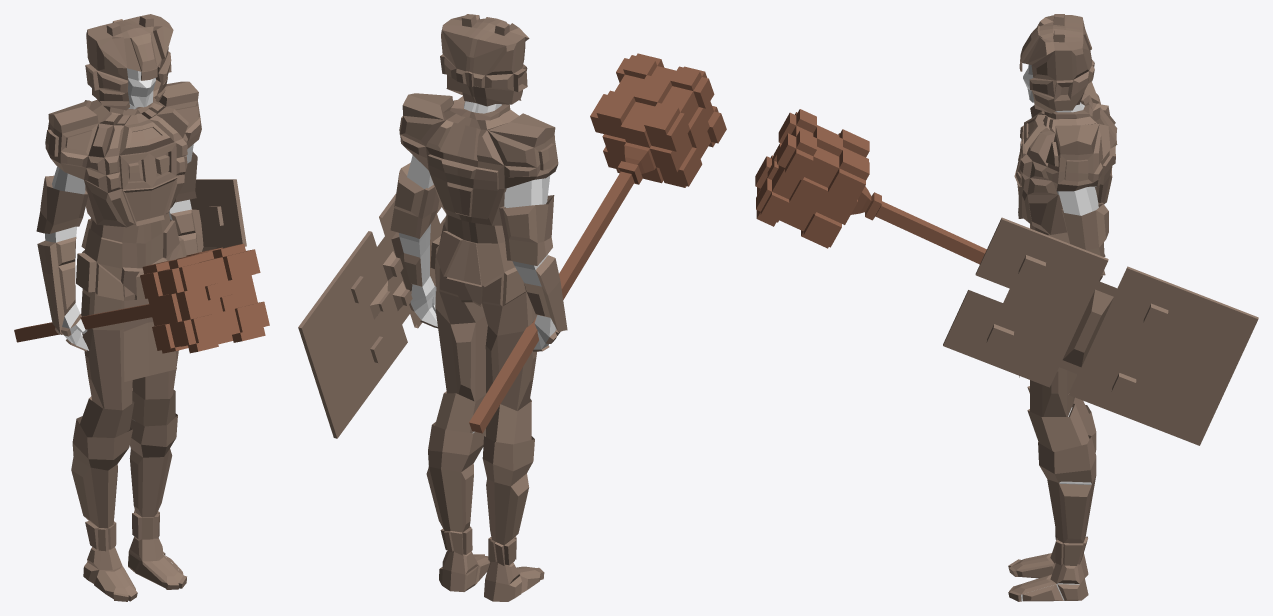
Rendered from SquareSoldier.glb.
3 renders of one model, left to right at view 1: azimuth 30°, elevation 25°; view 2: azimuth 150°, elevation 25°; view 3: azimuth 270°, elevation 25°, orthographic.
Parts seen in each view (by area): view 1: Chest.002, Pants.002, Boots.002, Hammer.002, Gloves.002, Helmet.002, Shield.002, Base Player.003; view 2: Hammer.002, Pants.002, Chest.002, Shield.002, Boots.002, Gloves.002, Helmet.002, Base Player.003; view 3: Shield.002, Hammer.002, Chest.002, Boots.002, Helmet.002, Pants.002, Gloves.002, Base Player.003.
Part boxes in pixels (x1,y1,x2,y2): Chest.002: (45,81,201,243); Pants.002: (76,219,186,437); Boots.002: (71,413,186,601); Hammer.002: (14,243,269,353); Gloves.002: (36,151,203,351); Helmet.002: (85,14,173,110); Shield.002: (190,179,246,251); Base Player.003: (45,68,193,569); Hammer.002: (469,53,726,433); Pants.002: (430,222,537,444); Chest.002: (399,93,558,243); Shield.002: (298,193,445,438); Boots.002: (426,422,544,601); Gloves.002: (390,163,567,351); Helmet.002: (440,14,529,106); Base Player.003: (399,101,556,466); Shield.002: (943,217,1258,445); Hammer.002: (755,109,986,264); Chest.002: (1014,81,1117,243); Boots.002: (1008,405,1096,601); Helmet.002: (1019,14,1094,113); Pants.002: (1019,254,1105,451); Gloves.002: (1061,202,1108,256); Base Player.003: (1021,64,1098,601).
Bounding box in the file's own units: 0.5813 × 1.73 × 1.4.
